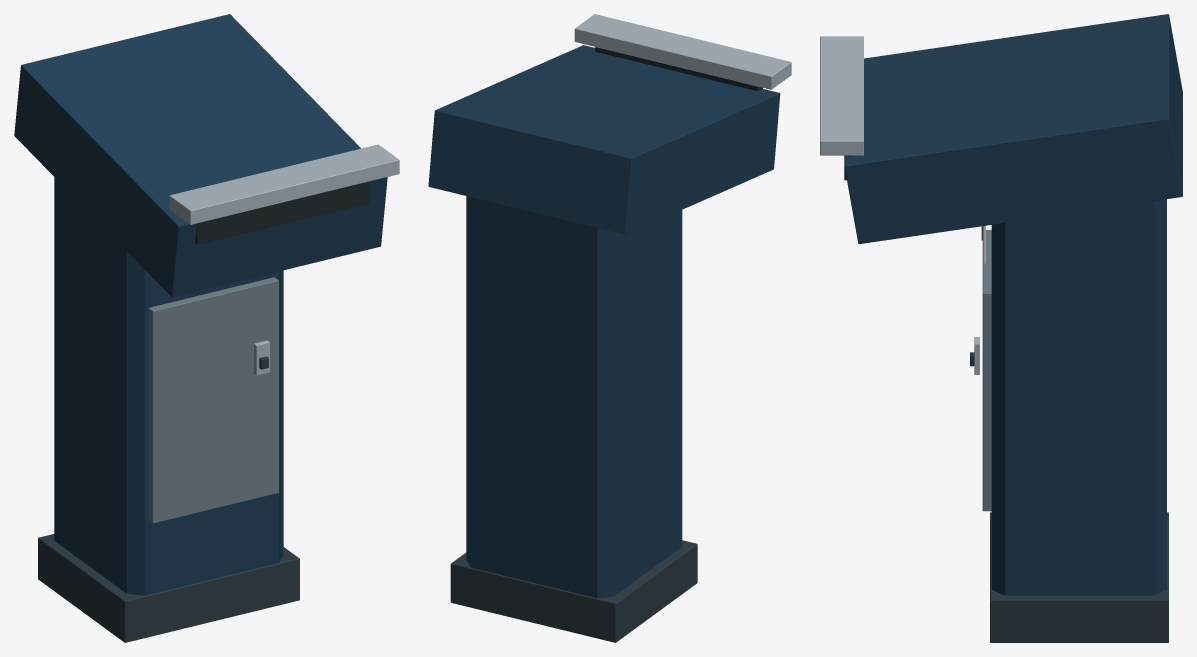
The model's file is b14_drive_through_mail_chute.glb.
3 views of the same model, side by side, from view 1: azimuth 30°, elevation 25°; view 2: azimuth 150°, elevation 25°; view 3: azimuth 270°, elevation 25° (orthographic). The views are drawn at different scales.
Visible parts, largest first — view 1: b14_drive_through_mail_chute; view 2: b14_drive_through_mail_chute; view 3: b14_drive_through_mail_chute.
Part boxes in pixels (x1,y1,x2,y2): b14_drive_through_mail_chute: (14, 14, 399, 642); b14_drive_through_mail_chute: (428, 14, 791, 642); b14_drive_through_mail_chute: (820, 14, 1182, 642).
Size of the model in its own units: 0.68 by 1.61 by 0.9931.
